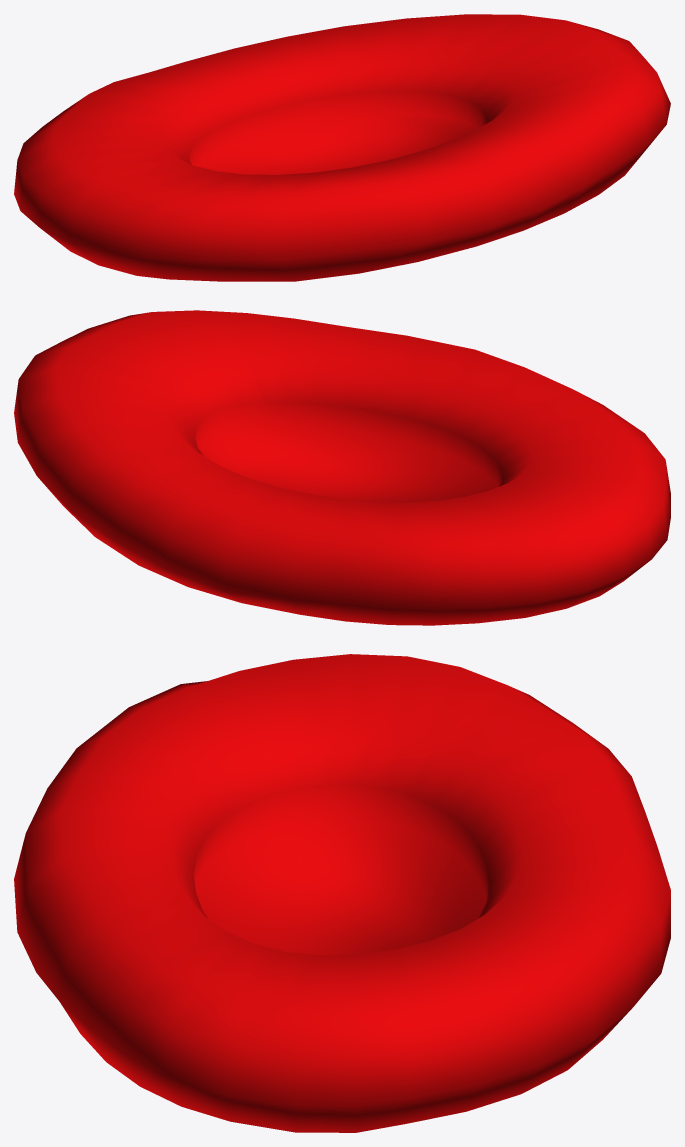
The model's file is red_blood_cell_4.fbx.
The picture shows the model from 3 angles, top to bottom: view 1: azimuth 30°, elevation 25°; view 2: azimuth 150°, elevation 25°; view 3: azimuth 270°, elevation 25°; orthographic projection. The views are drawn at different scales.
Visible parts, largest first — view 1: Cylinder.005; view 2: Cylinder.005; view 3: Cylinder.005.
Boxes of the visible parts, left/top/right/bottom form: Cylinder.005: left=14, top=14, right=670, bottom=281; Cylinder.005: left=14, top=310, right=670, bottom=625; Cylinder.005: left=14, top=654, right=670, bottom=1132.
Bounding box in the file's own units: 279 × 47.93 × 186.
